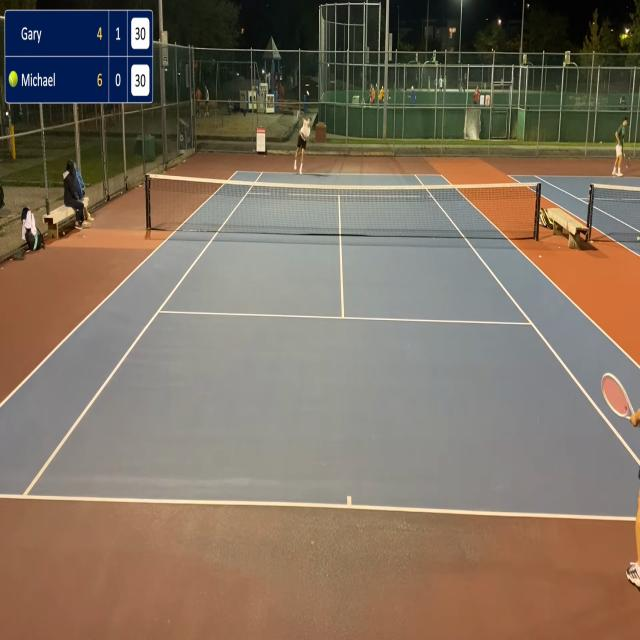ball: (306, 90, 310, 96)
